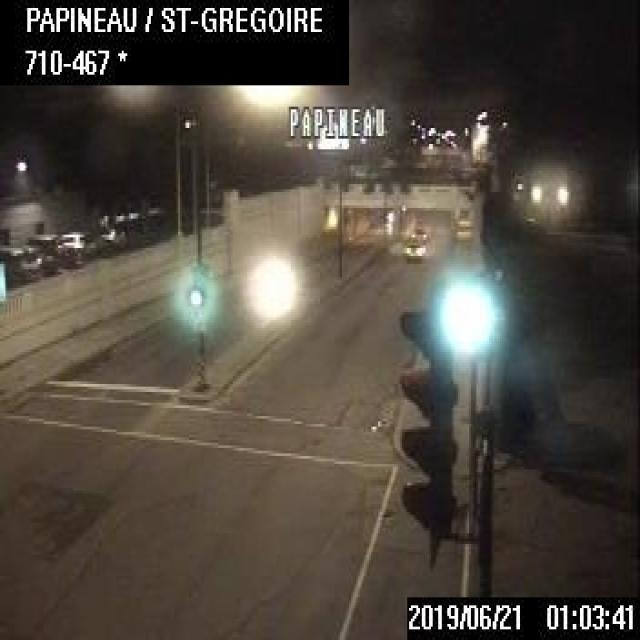vehicle: (56, 228, 86, 258), (400, 234, 424, 258)
